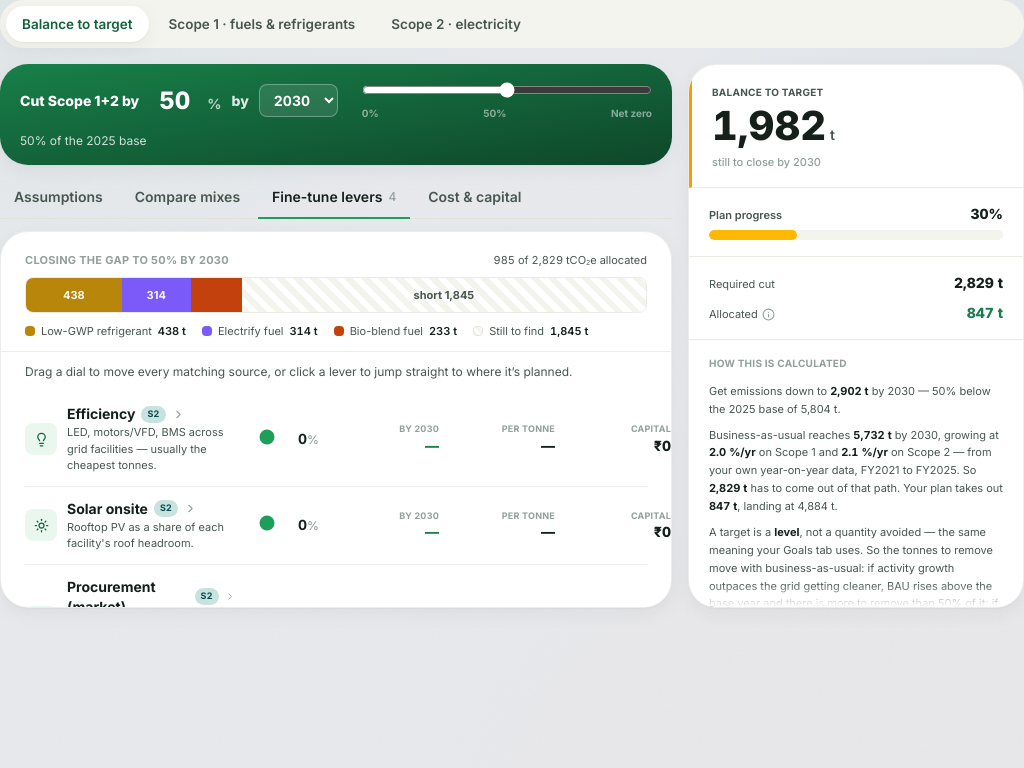
Scenario: BuilderHub — Balance to target lands first › a dial writes through to per-source levers, visible in the scope tab
Set the slider named "Efficiency dial" to "60" at (308, 438), box top-left (298, 430), bottom-right (319, 447)
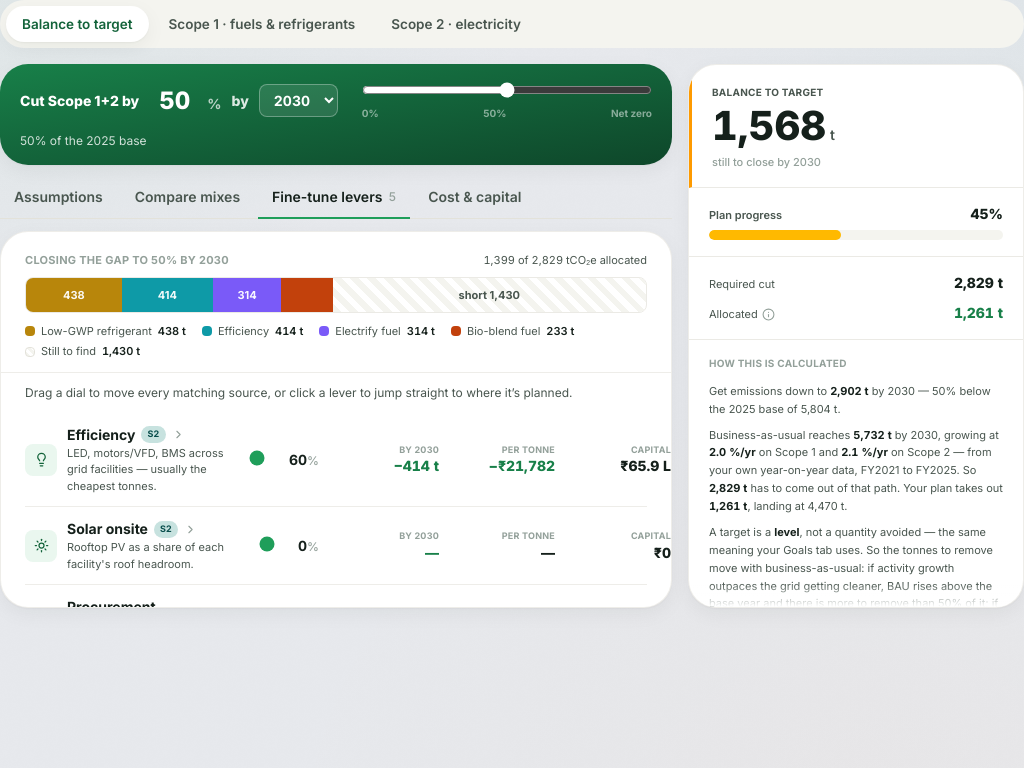
Note: jump into Scope 2 — the facilities now carry an active efficiency lever
Click the button "Scope 2 · electricity" at (456, 24), box top-left (375, 6), bottom-right (537, 42)
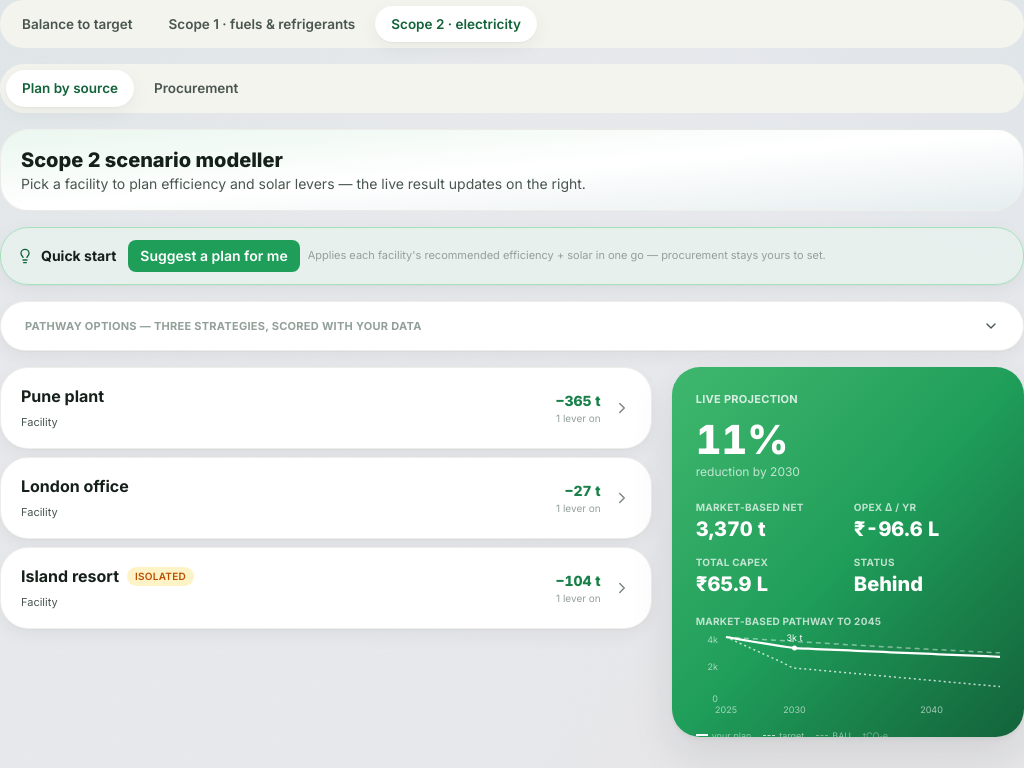
Result: the 1st text "1 lever on" is shown at top-left (555, 410), bottom-right (601, 426)
